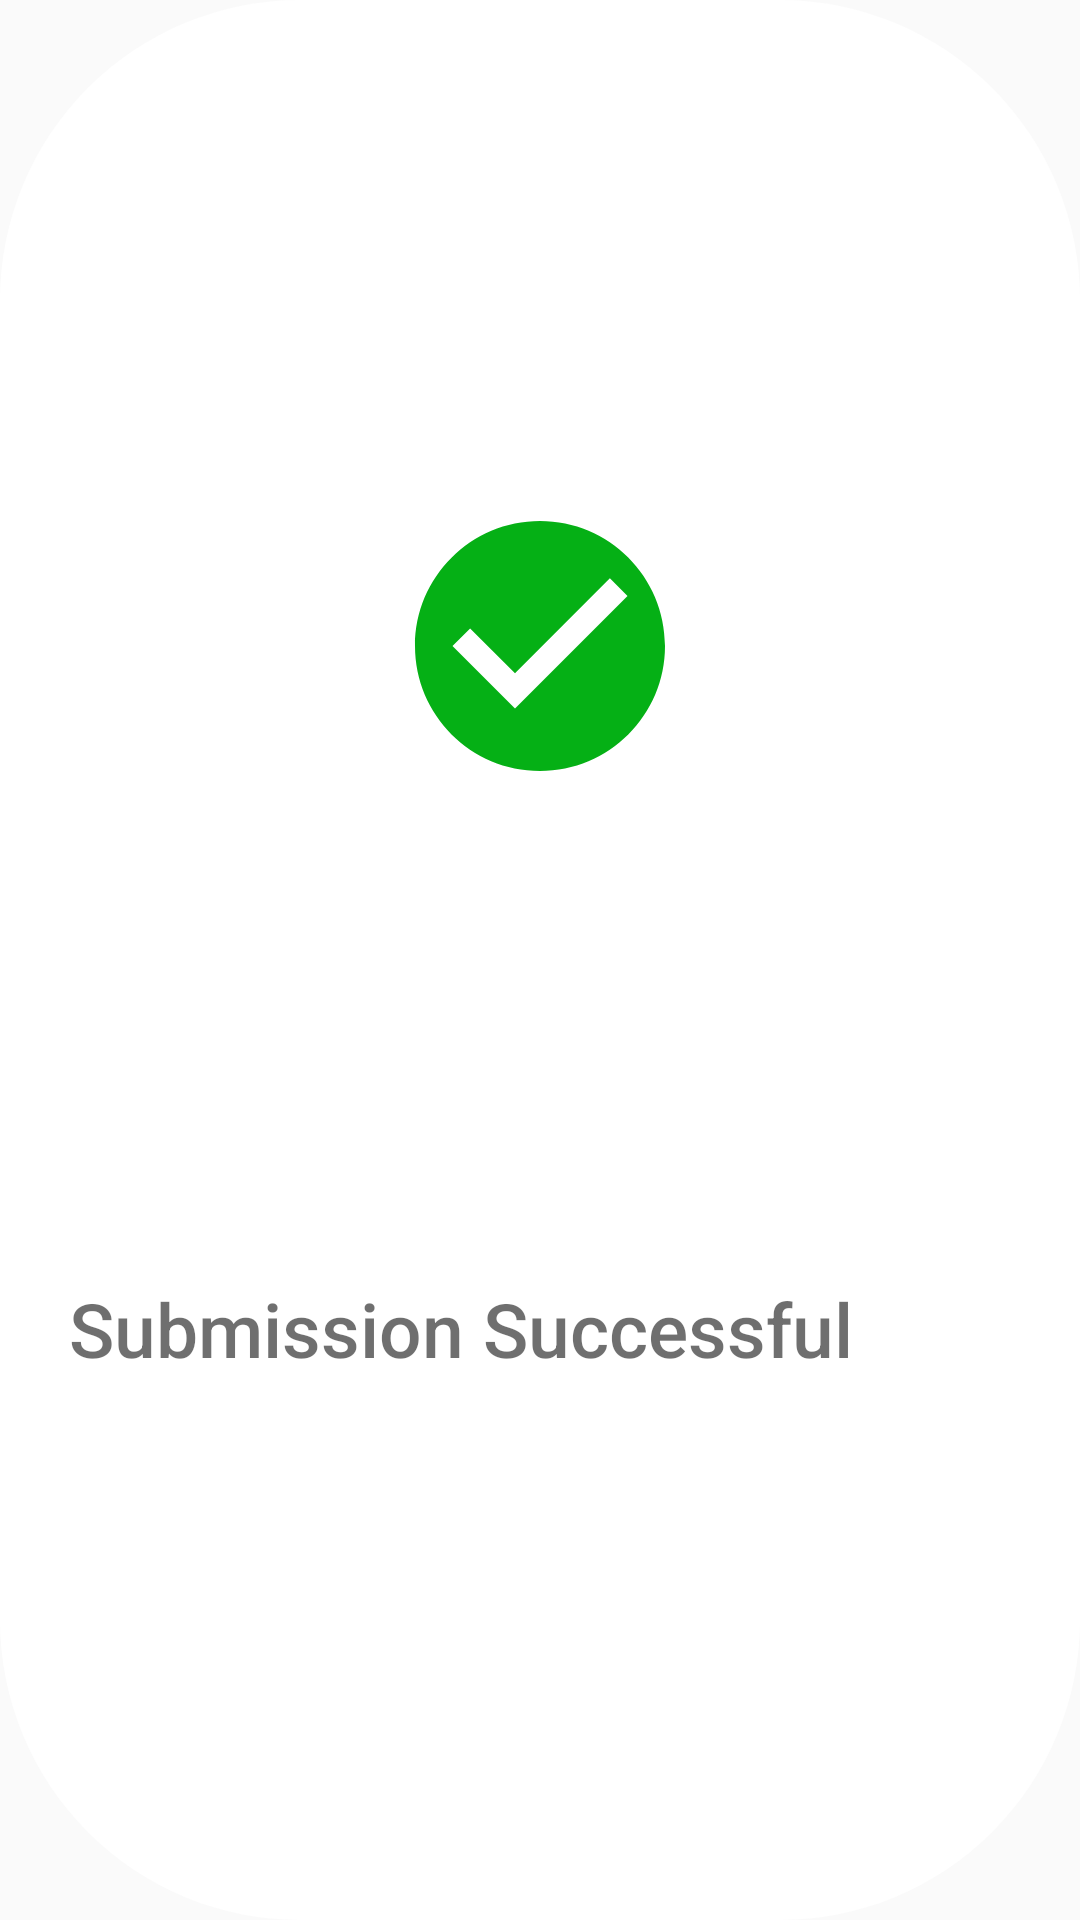

Where icons sit on this 1080px x 1920px app screen, as region(x1, y1, x2, y2):
check: region(415, 521, 665, 771)
